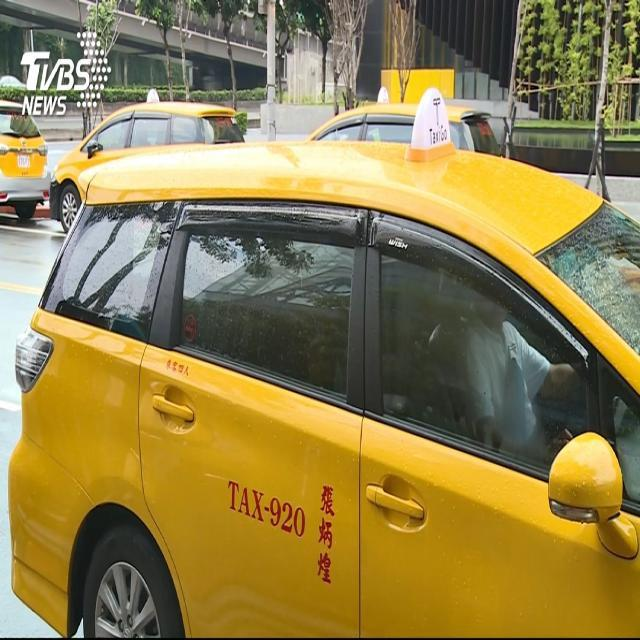Door: (50, 102, 242, 230)
Taxi: (9, 102, 640, 638)
